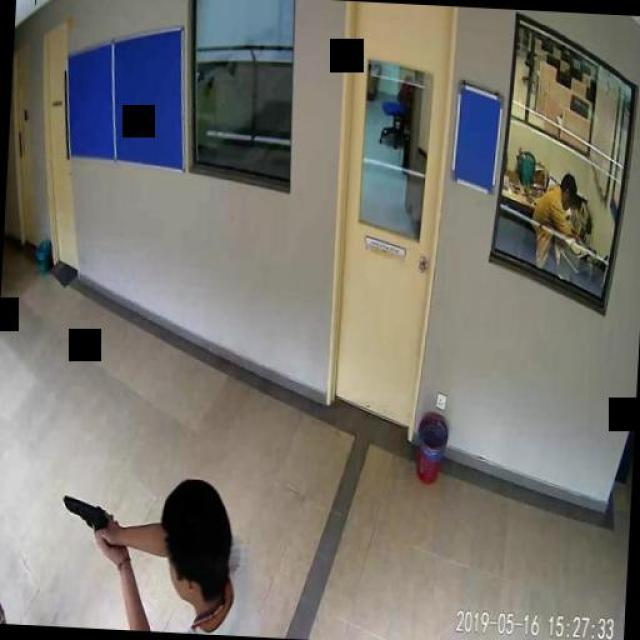gun: (60, 492, 116, 548)
